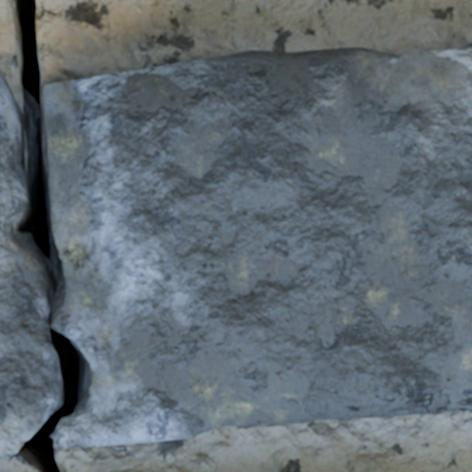broken_brick: (45, 46, 471, 448), (0, 72, 54, 459)
crack: (1, 0, 96, 471)
